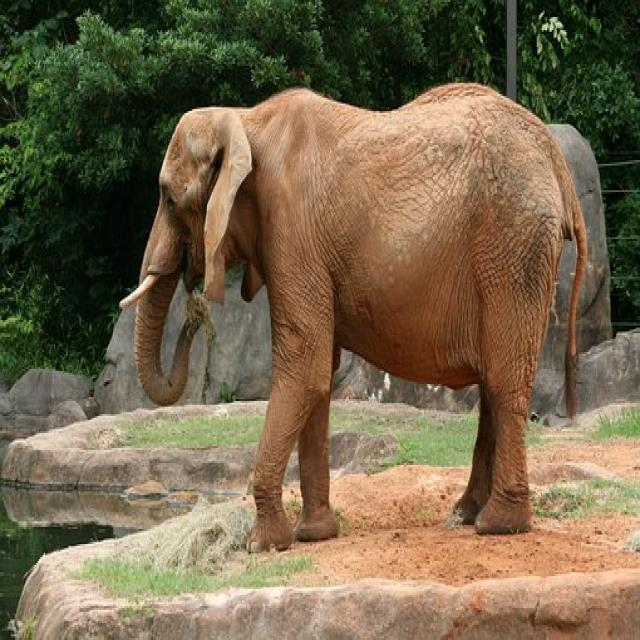Elephant: (119, 59, 588, 580)
